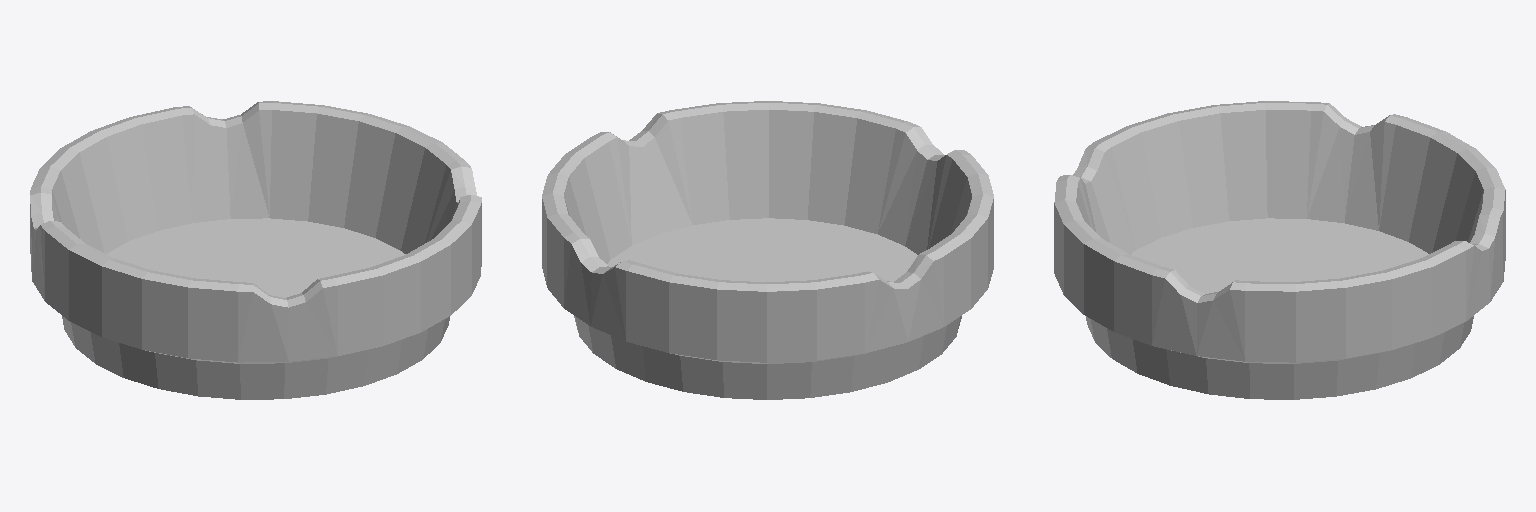
3 views of the same model, side by side, from view 1: azimuth 30°, elevation 25°; view 2: azimuth 150°, elevation 25°; view 3: azimuth 270°, elevation 25° (orthographic).
Visible parts, largest first — view 1: Bistro_Research_Exterior_Paris_Ashtray_01_mesh___2__4079; view 2: Bistro_Research_Exterior_Paris_Ashtray_01_mesh___2__4079; view 3: Bistro_Research_Exterior_Paris_Ashtray_01_mesh___2__4079.
Part boxes in pixels (x1,y1,x2,y2): Bistro_Research_Exterior_Paris_Ashtray_01_mesh___2__4079: (30,101,481,399); Bistro_Research_Exterior_Paris_Ashtray_01_mesh___2__4079: (542,101,993,399); Bistro_Research_Exterior_Paris_Ashtray_01_mesh___2__4079: (1054,101,1505,399).
Bounding box in the file's own units: 0.1741 × 0.0532 × 0.1741.